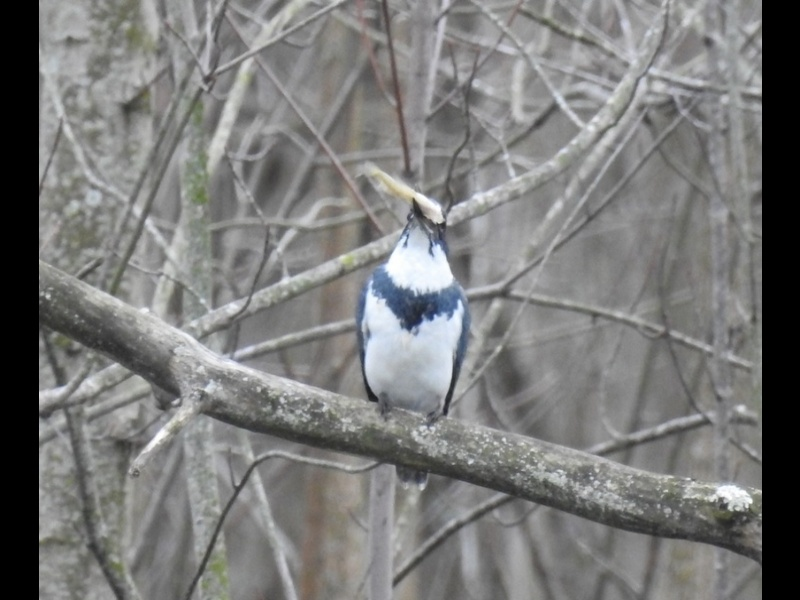kingfisher: (353, 194, 472, 427)
